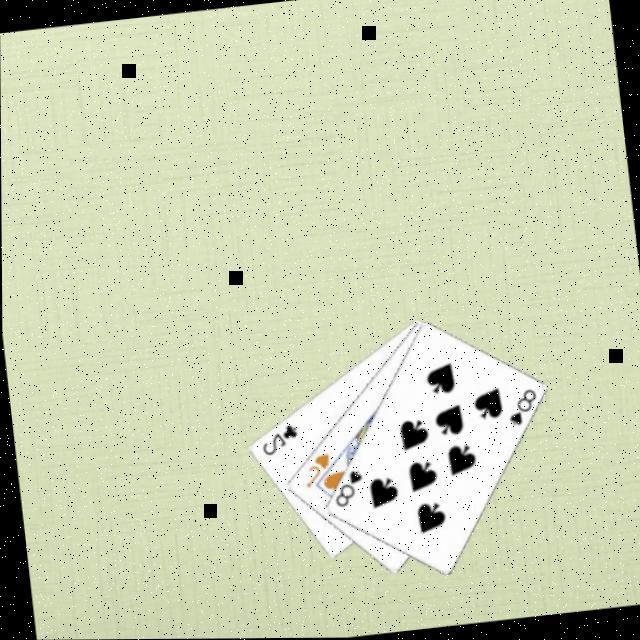2C: (254, 419, 299, 457)
8S: (500, 383, 540, 428), (326, 464, 365, 509)
JH: (296, 448, 332, 489)
